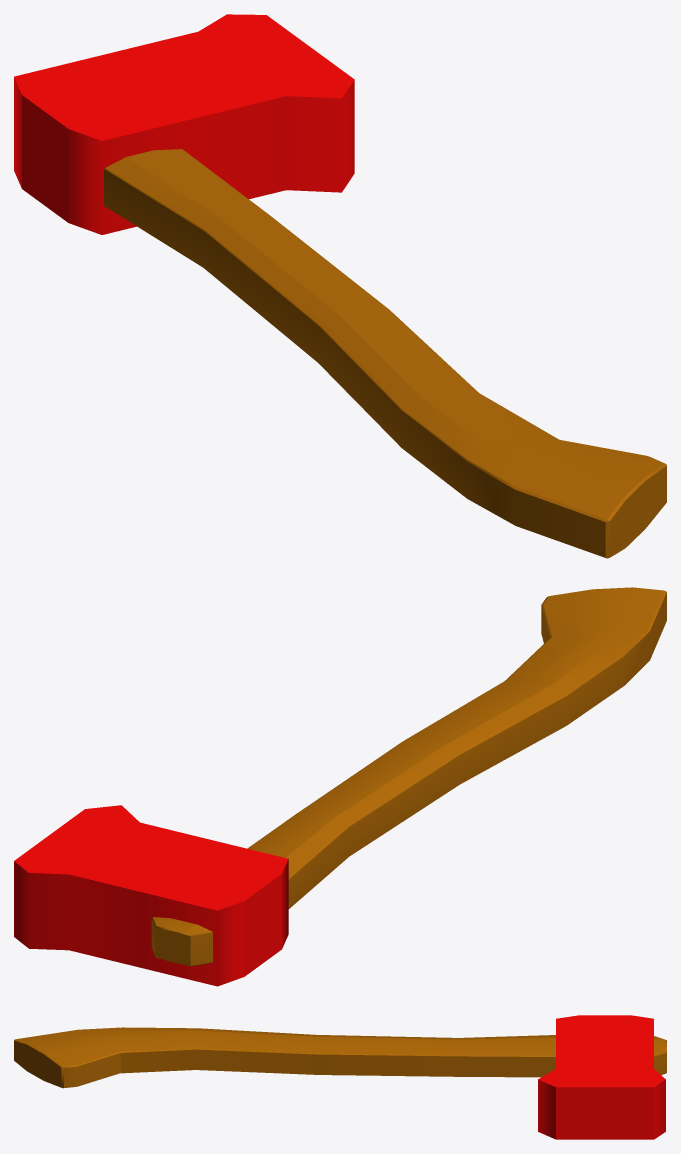
Rendered from Hammer_02.fbx.
3 views of the same model, one above another, from view 1: azimuth 30°, elevation 25°; view 2: azimuth 150°, elevation 25°; view 3: azimuth 270°, elevation 25° (orthographic). The views are drawn at different scales.
Parts seen in each view (by area): view 1: Hammer_02; view 2: Hammer_02; view 3: Hammer_02.
Part boxes in pixels (x1,y1,x2,y2): Hammer_02: (14, 14, 666, 558); Hammer_02: (14, 587, 666, 986); Hammer_02: (14, 1015, 666, 1139).
Bounding box in the file's own units: 3.1 × 1 × 11.3.
